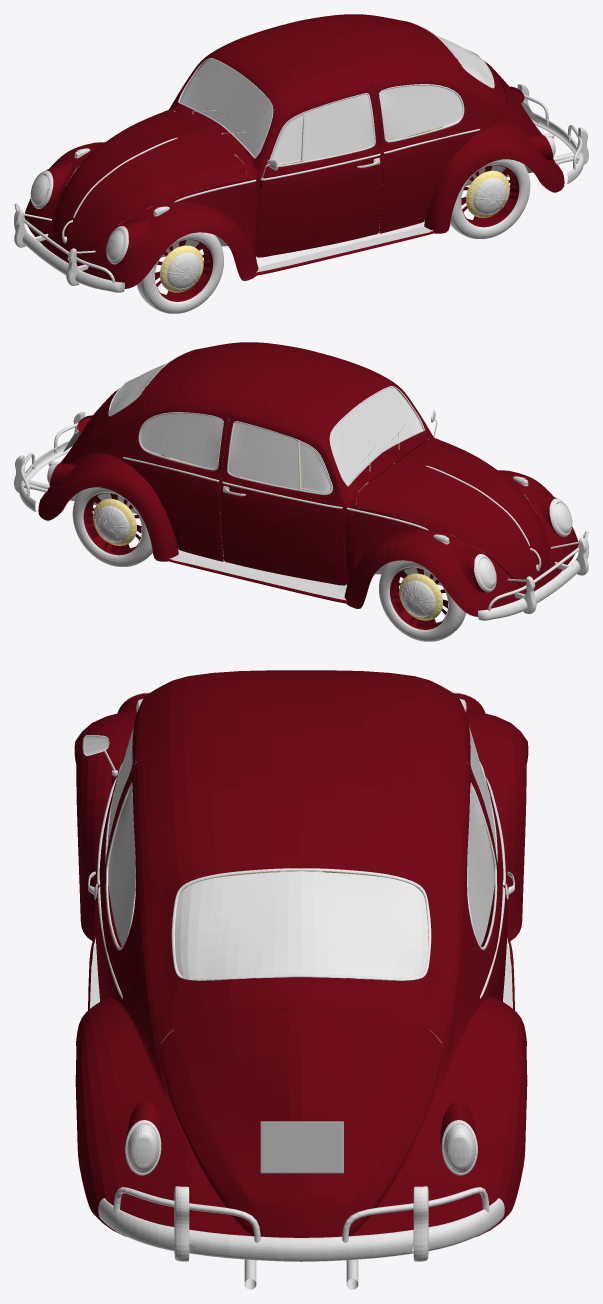
Rendered from vwkaferhlowered.fbx.
3 views of the same model, one above another, from view 1: azimuth 30°, elevation 25°; view 2: azimuth 150°, elevation 25°; view 3: azimuth 270°, elevation 25° (orthographic). The views are drawn at different scales.
Visible parts, largest first — view 1: caroserie, caroserie.001, caroserie.002, parbriz, geam fata, geam lateral spate, prag, bara fata, cauciuc.001, cauciuc, bara spate, rims (+15 smaller); view 2: caroserie, caroserie.001, caroserie.002, parbriz, geam fata, geam lateral spate, prag, bara fata, cauciuc.001, cauciuc, bara spate, rims (+15 smaller); view 3: caroserie, capota spate, luneta, bara spate, geam lateral spate, numar de inmatriculare, far spate, crom geamuri.003, bara spate subtire, caroserie.002, crom geamuri.001, geam fata (+4 smaller).
Boxes of the visible parts, x1,y1,x2,y2 form: caroserie: [24, 14, 564, 288]; caroserie.001: [52, 110, 246, 263]; caroserie.002: [171, 58, 382, 257]; parbriz: [180, 59, 272, 157]; geam fata: [303, 94, 374, 161]; geam lateral spate: [380, 85, 462, 140]; prag: [66, 85, 533, 272]; bara fata: [14, 203, 124, 292]; cauciuc.001: [45, 167, 223, 313]; cauciuc: [450, 159, 530, 238]; bara spate: [517, 84, 588, 183]; rims: [461, 165, 519, 227]; caroserie: [38, 342, 578, 616]; caroserie.001: [356, 438, 550, 591]; caroserie.002: [220, 386, 431, 585]; parbriz: [330, 387, 422, 485]; geam fata: [228, 422, 299, 489]; geam lateral spate: [140, 413, 222, 468]; prag: [69, 413, 536, 600]; bara fata: [478, 531, 588, 620]; cauciuc.001: [379, 495, 557, 641]; cauciuc: [72, 487, 152, 566]; bara spate: [14, 412, 85, 511]; rims: [83, 493, 141, 555]; caroserie: [74, 670, 528, 1261]; capota spate: [159, 1008, 443, 1237]; luneta: [174, 871, 428, 979]; bara spate: [98, 1186, 504, 1261]; geam lateral spate: [108, 786, 494, 945]; numar de inmatriculare: [260, 1121, 343, 1173]; far spate: [127, 1124, 475, 1172]; crom geamuri.003: [171, 868, 431, 980]; bara spate subtire: [113, 1187, 489, 1242]; caroserie.002: [95, 699, 507, 946]; crom geamuri.001: [105, 782, 497, 949]; geam fata: [107, 731, 495, 848].
Size of the model in its own units: 690 by 242 by 259.
